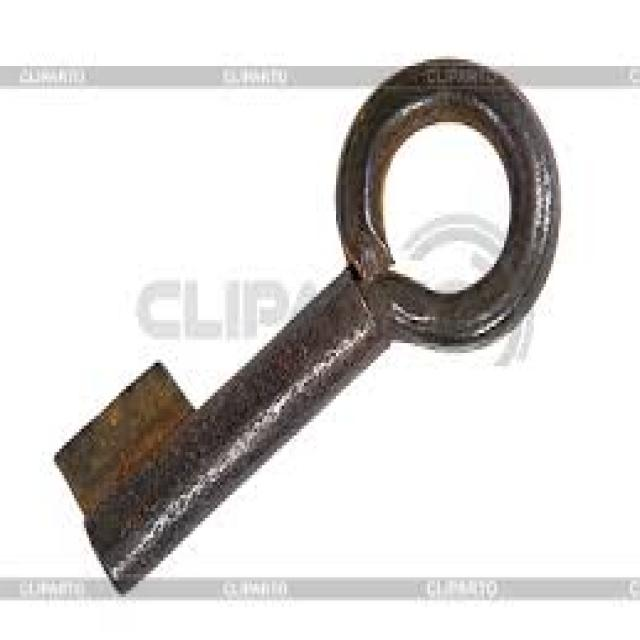key: (25, 43, 583, 640)
